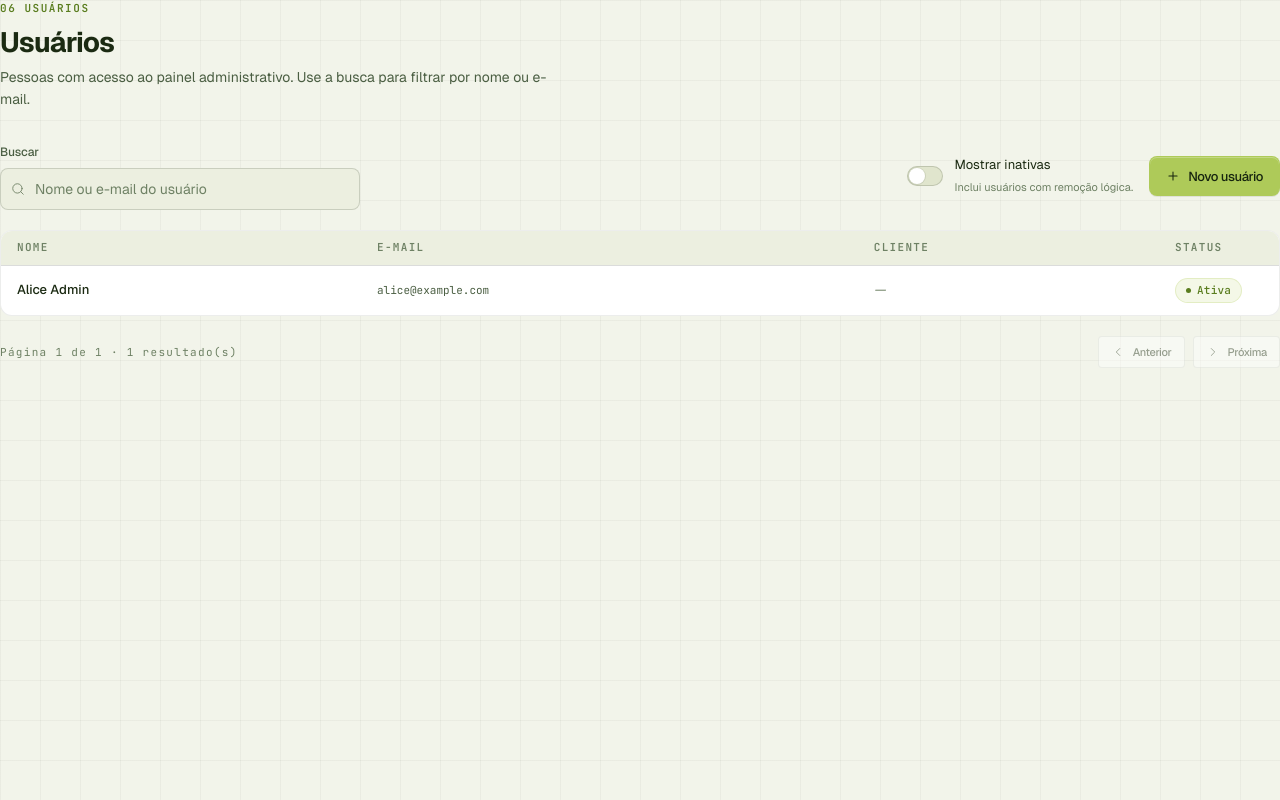
Test: UsersListShellPage — criação (Issue #78) › abertura e fechamento do modal › Esc fecha o modal sem persistir
Click the button with test id "users-create-open": (1215, 176) top-left (1149, 156), bottom-right (1279, 196)
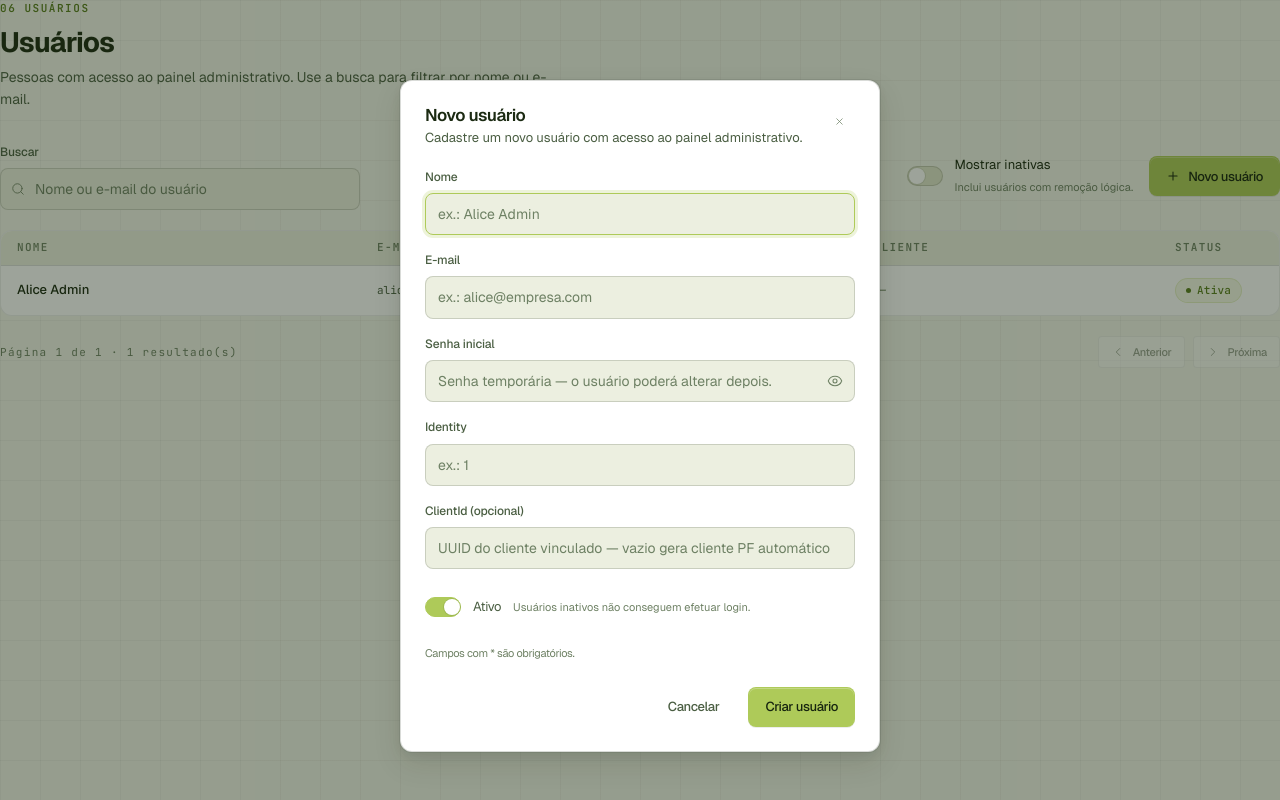
Check: the dialog is shown, box top-left (400, 80), bottom-right (880, 752)
Press Escape
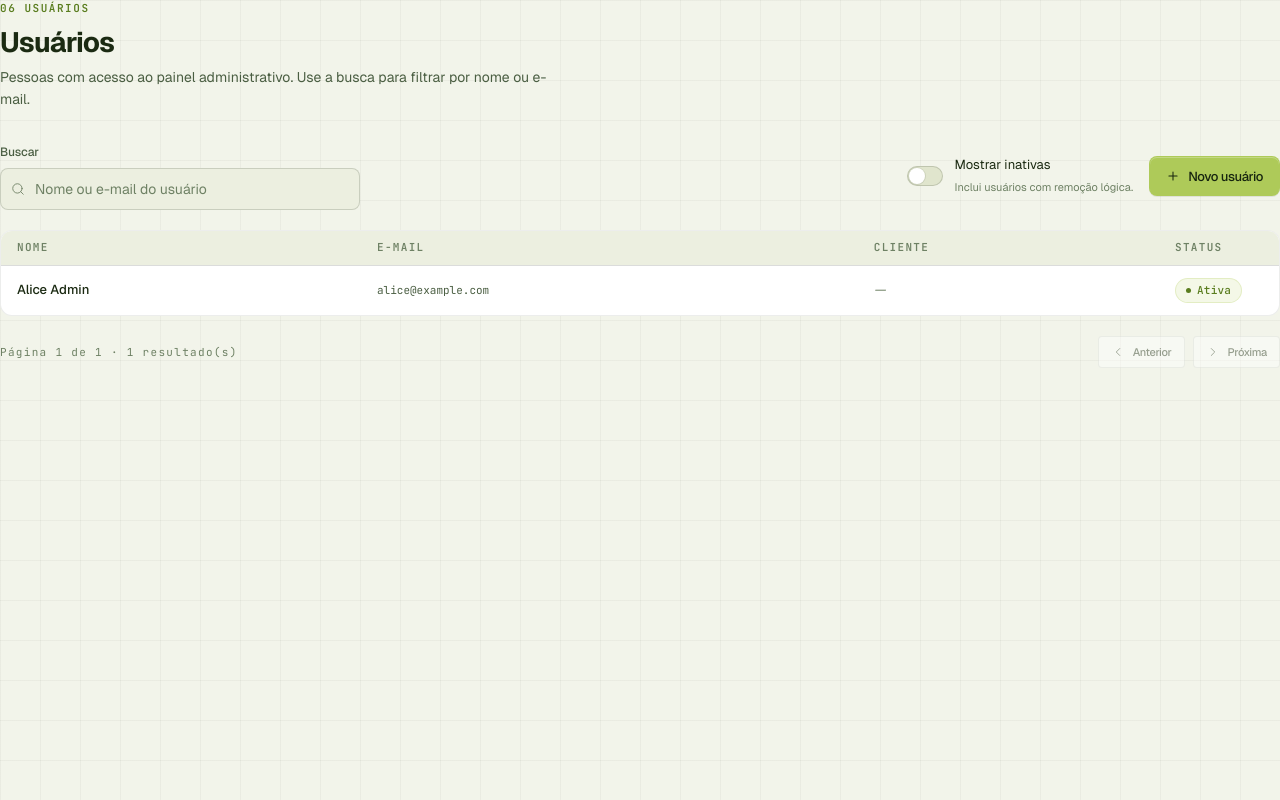
Check: the dialog is gone
